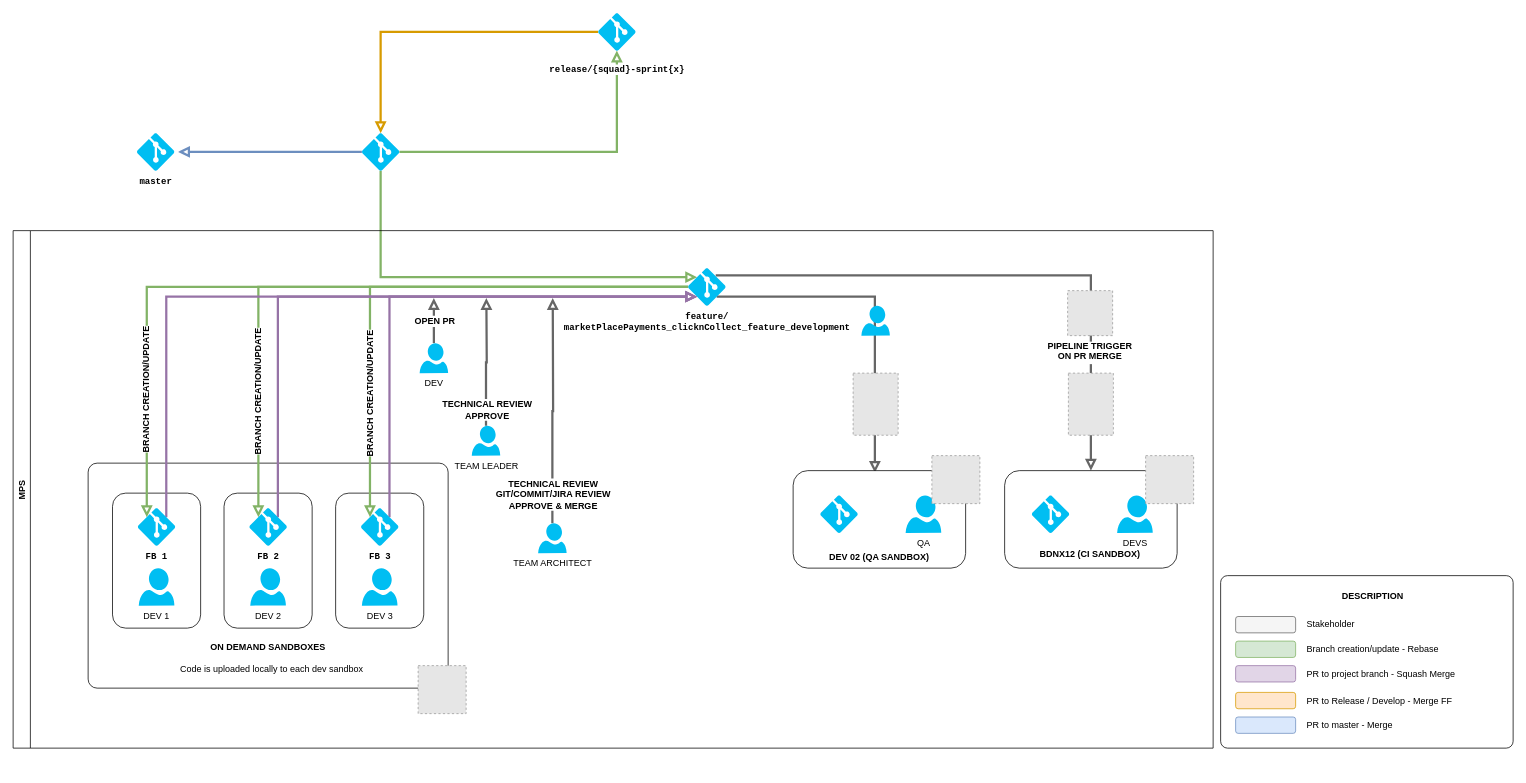
This 1526x783 diagram has some shape labels left out. Grey dashed boxes stand in for pictures. Here are the shapes that lost their labels. From the top down, the centre of each, then its label:
the point at 380,151: develop
the point at 875,320: RELEASE MANAGER
